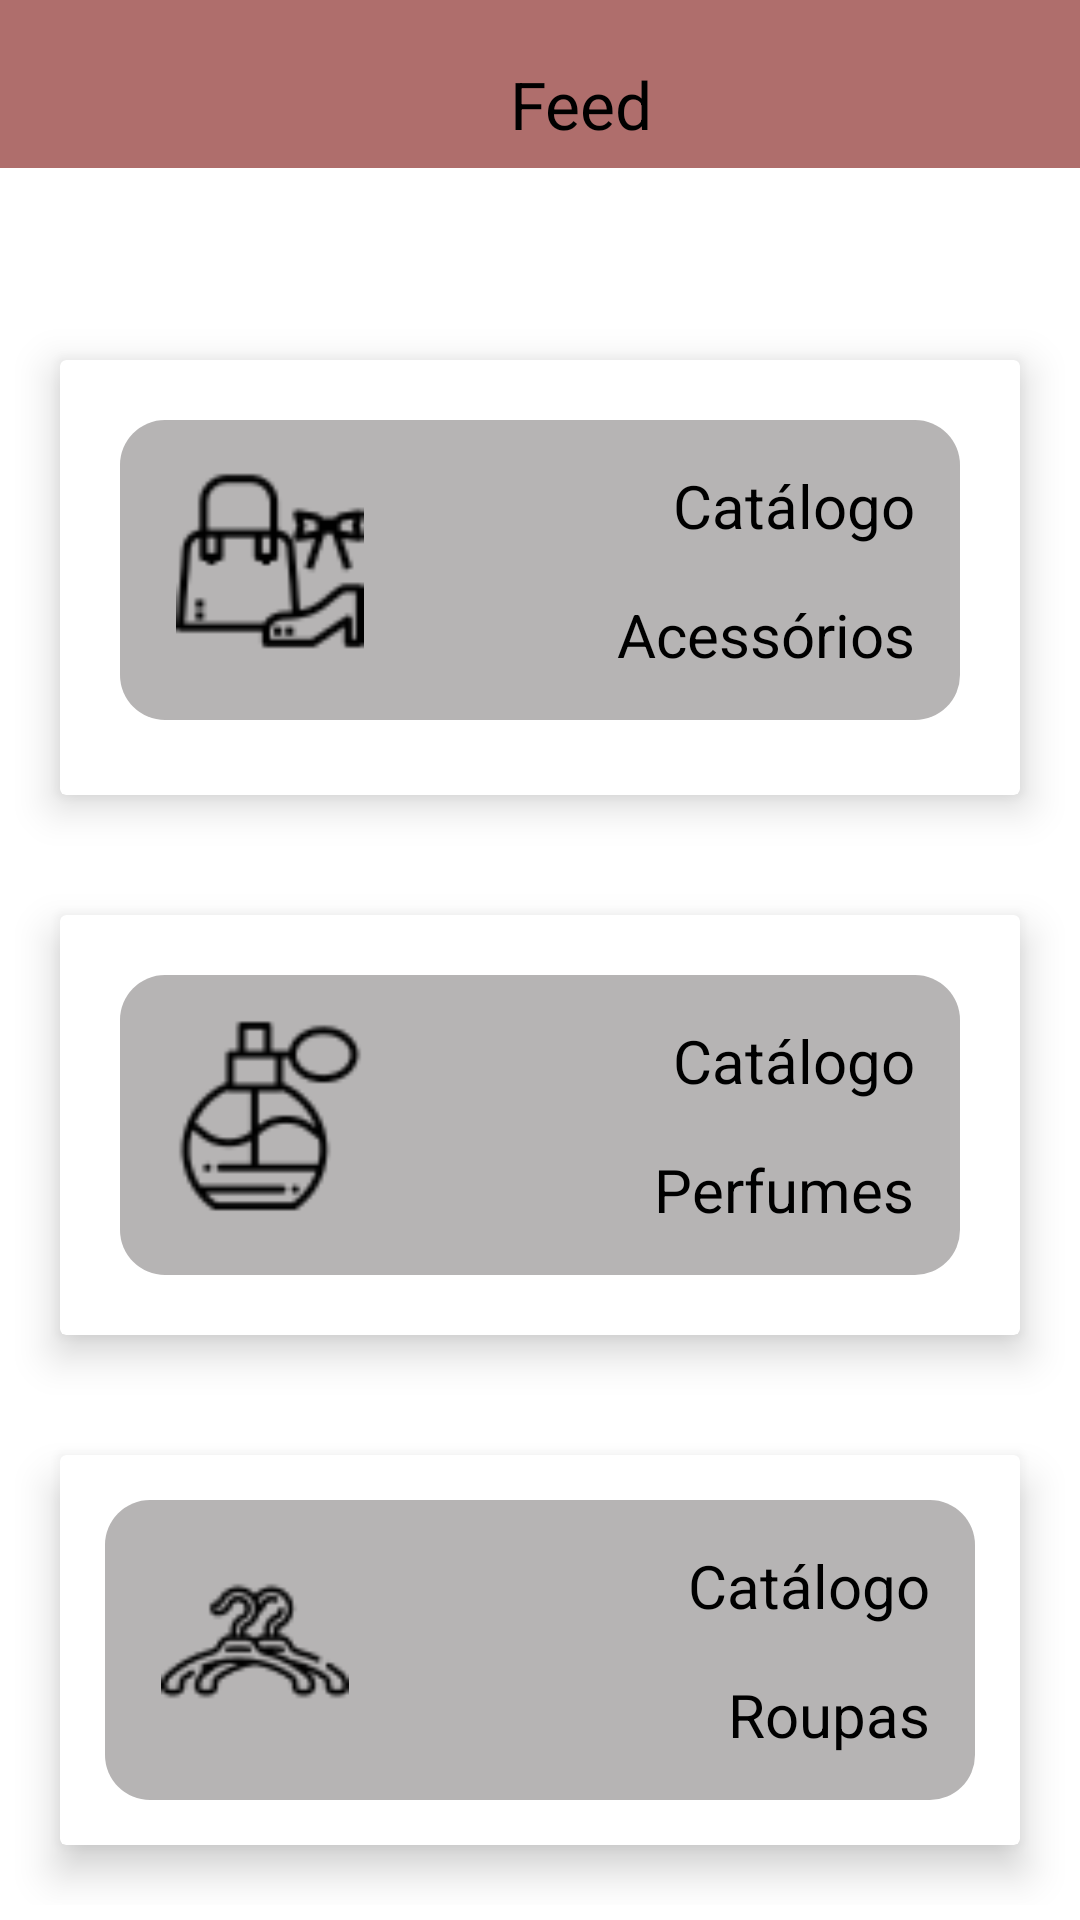

Screen size 1080px×1920px. Icon name, then its center in pixels as (x,y):
acessorio: (270,561)
perfume: (270,1116)
roupa: (255,1641)
